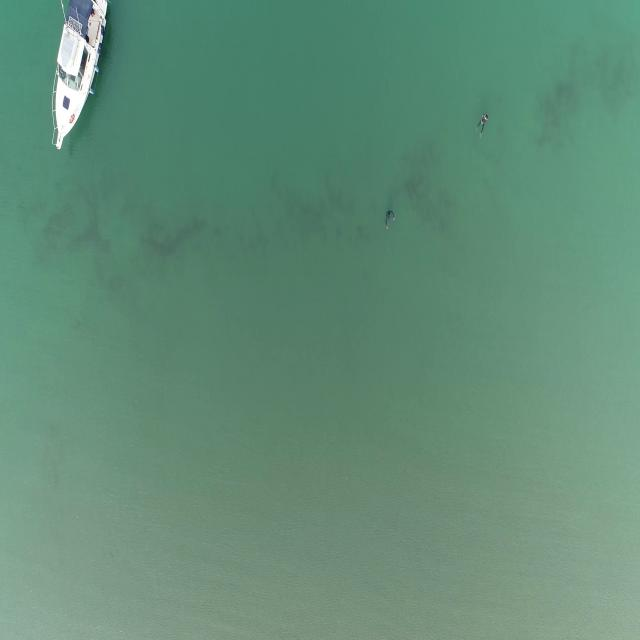boat: (47, 1, 107, 153)
person: (477, 115, 489, 144), (382, 211, 395, 233)
